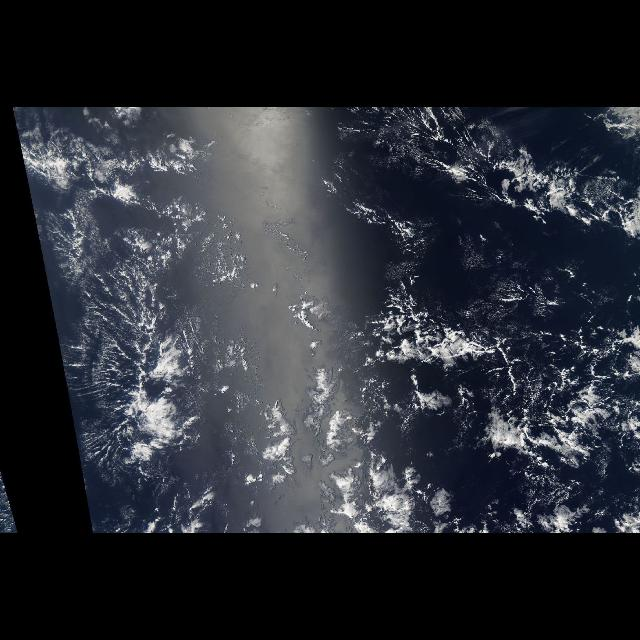Sugar: (61, 252, 140, 448)
